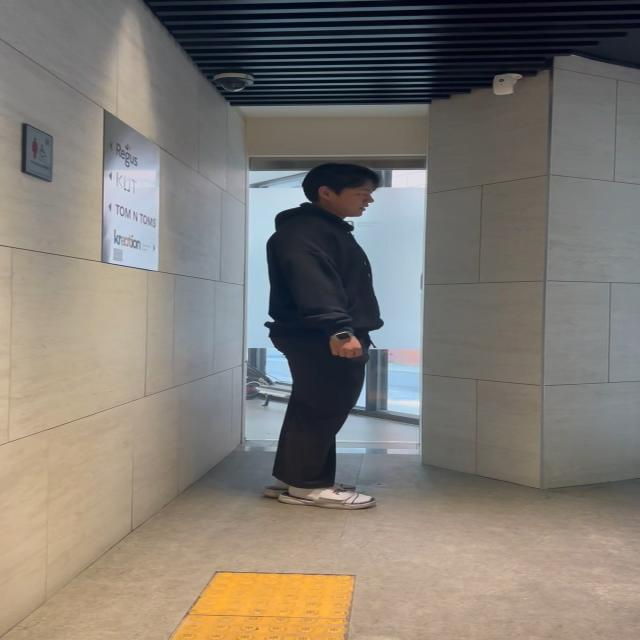leg: (286, 358, 376, 508)
